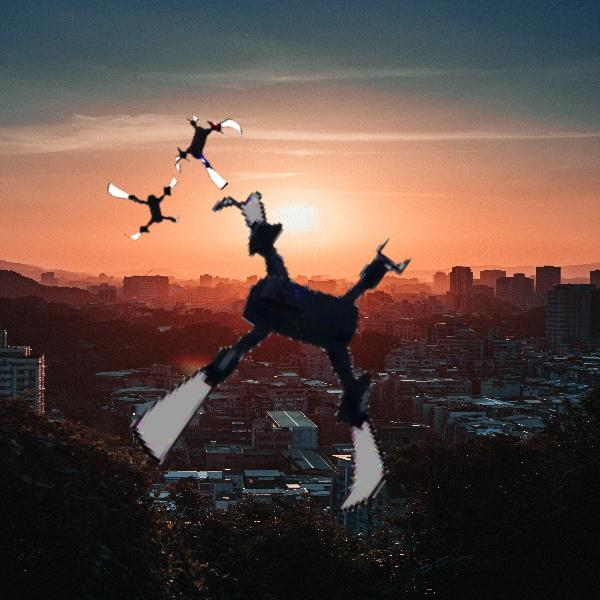drone: (127, 202, 457, 532), (103, 160, 190, 247), (169, 108, 250, 189)
